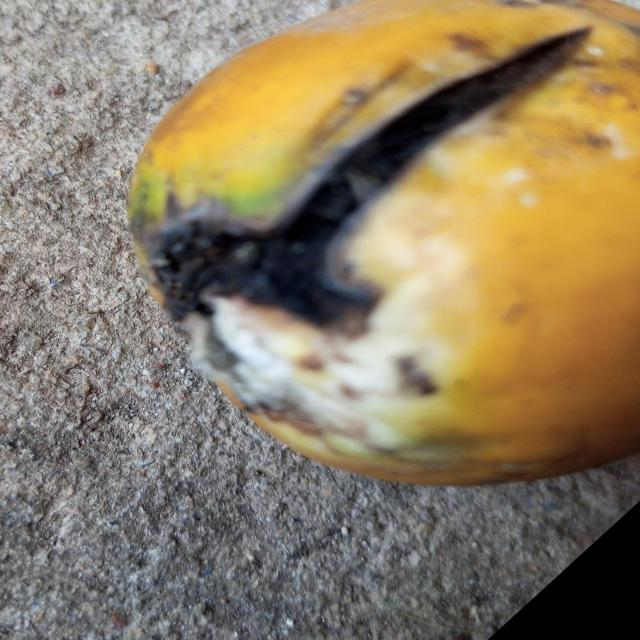damaged: (128, 0, 640, 485)
